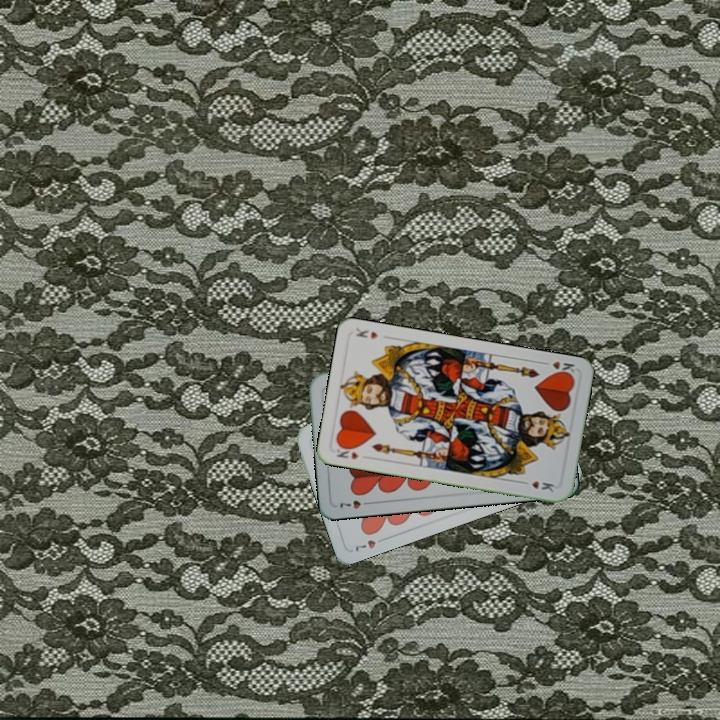H7: (351, 533, 388, 554), (336, 496, 374, 511)
HK: (538, 357, 578, 379), (333, 447, 361, 462)
